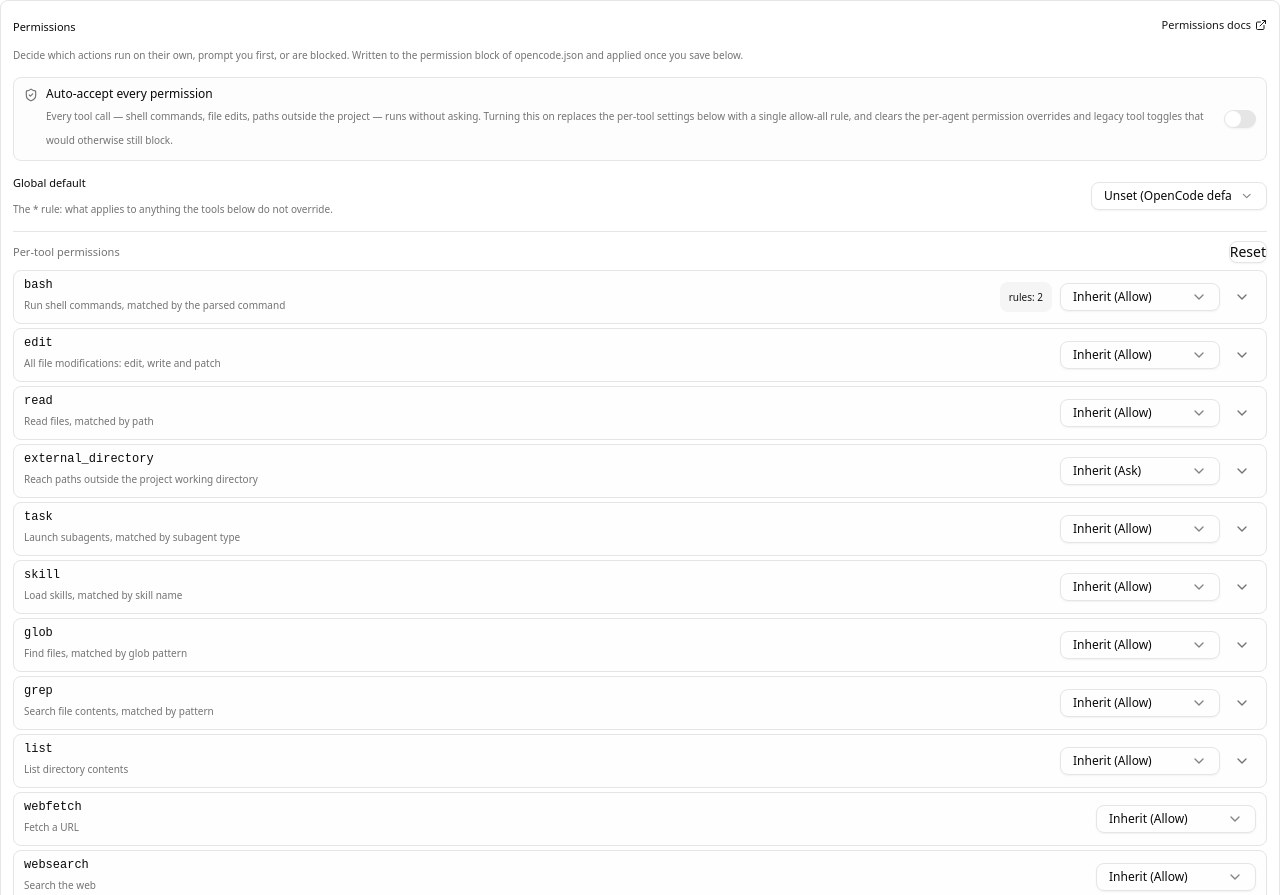
Test: OpenCodePermissionsSection › refuses to retype a pattern onto one the key already has
This screenshot has width=1280, height=895.
Click the button named "Fine-grained rules for bash".
click(1242, 297)  # box [1228, 283, 1256, 311]
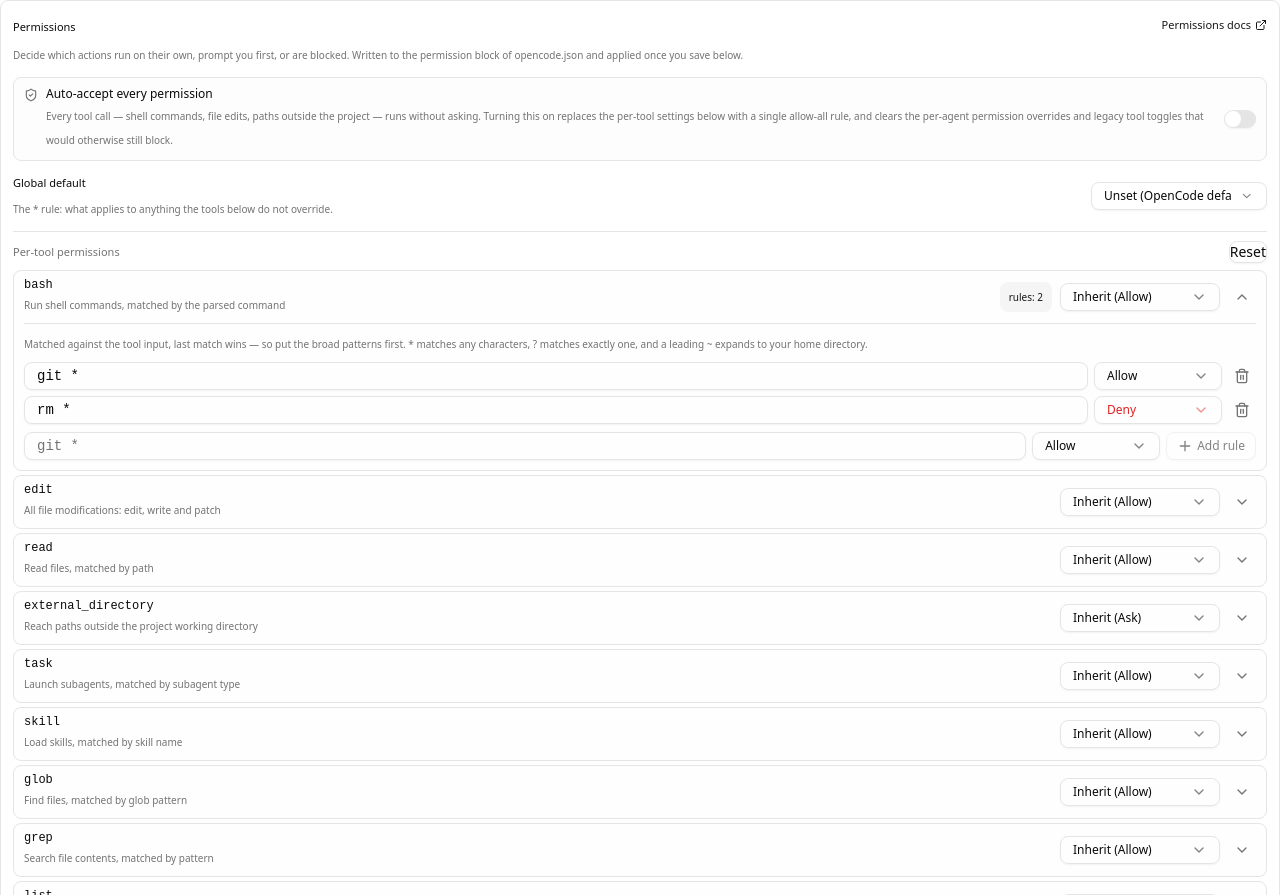
Replace the text in the 2nd field with placeholder "git *" with "git *" at (556, 410), box [24, 396, 1088, 424]
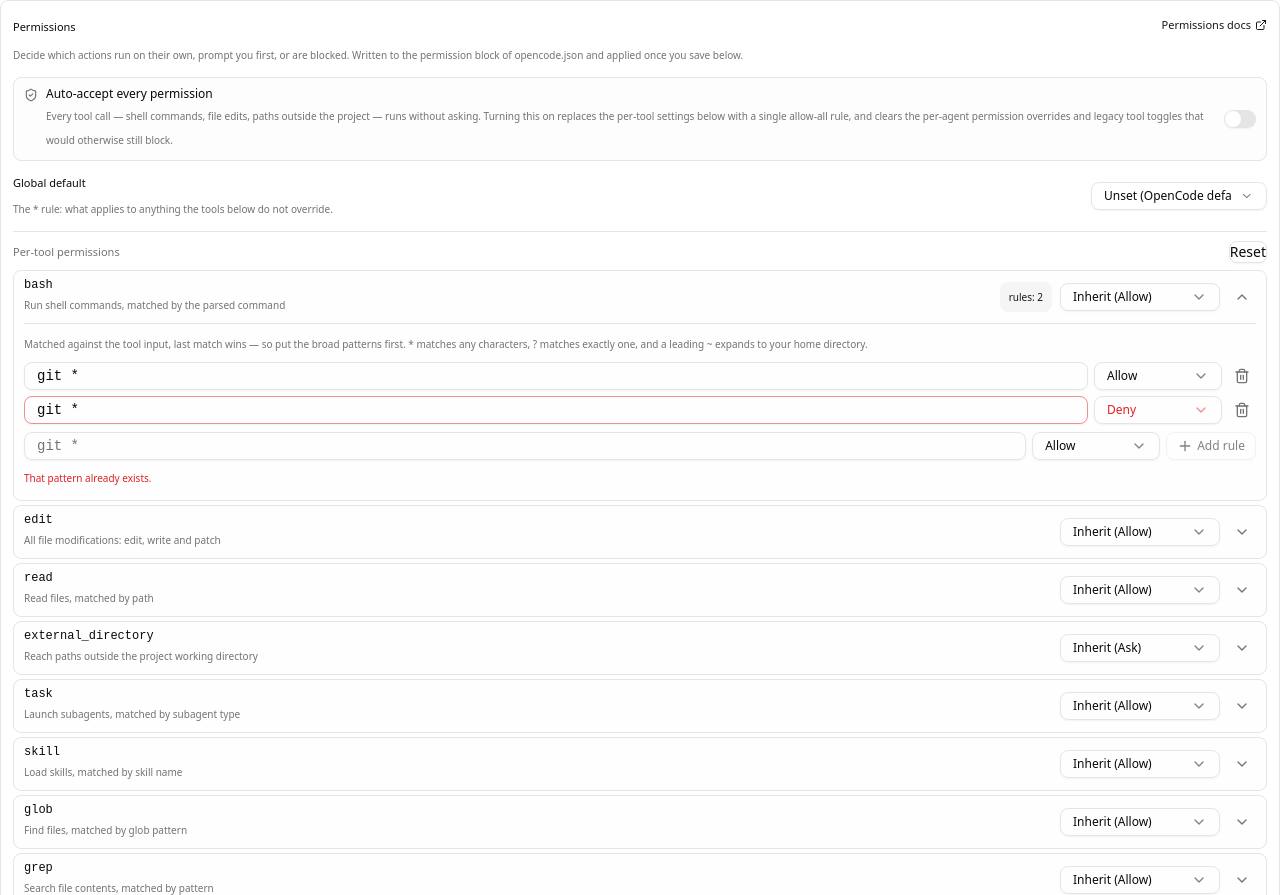
Now the text "That pattern already exists." is shown, box [24, 471, 152, 485]
